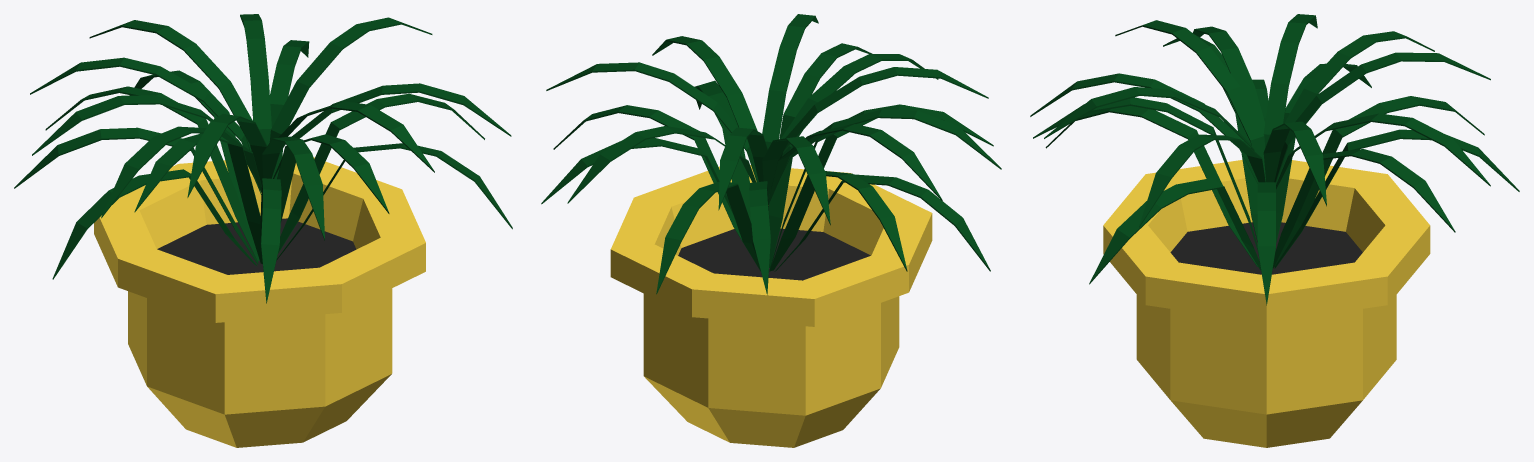
File: Kitchen_Plant2.fbx
The picture shows the model from 3 angles, left to right: view 1: azimuth 30°, elevation 25°; view 2: azimuth 150°, elevation 25°; view 3: azimuth 270°, elevation 25°; orthographic projection. The views are drawn at different scales.
Visible parts, largest first — view 1: Kitchen_Plant2; view 2: Kitchen_Plant2; view 3: Kitchen_Plant2.
Part boxes in pixels (x1=…): Kitchen_Plant2: x1=14, y1=14, x2=512, y2=447; Kitchen_Plant2: x1=541, y1=14, x2=1001, y2=447; Kitchen_Plant2: x1=1030, y1=14, x2=1519, y2=447.
Bounding box in the file's own units: 29.62 × 28.51 × 21.87.
